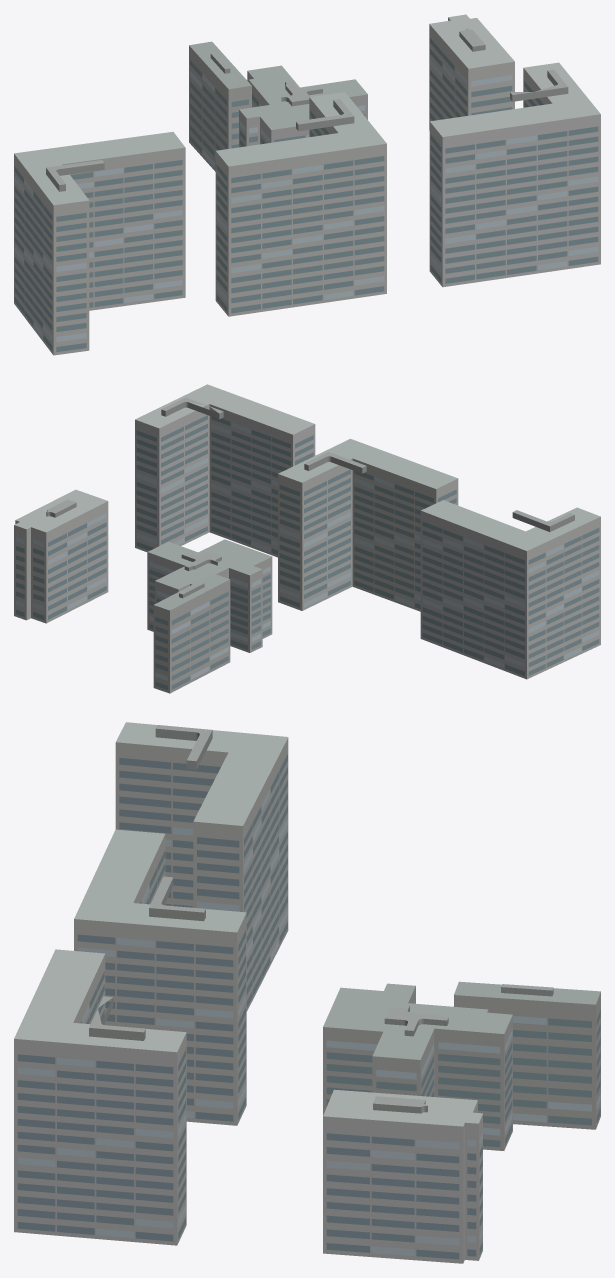
File: apt-a15010203.glb
3 renders of one model, top to bottom at view 1: azimuth 30°, elevation 25°; view 2: azimuth 150°, elevation 25°; view 3: azimuth 270°, elevation 25°, orthographic. The views are drawn at different scales.
Visible parts, largest first — view 1: apt-a15010203; view 2: apt-a15010203; view 3: apt-a15010203.
Boxes of the visible parts, x1=… form: apt-a15010203: x1=14, y1=14, x2=600, y2=355; apt-a15010203: x1=14, y1=384, x2=600, y2=693; apt-a15010203: x1=14, y1=722, x2=600, y2=1263.
Bounding box in the file's own units: 177 × 47.81 × 126.
